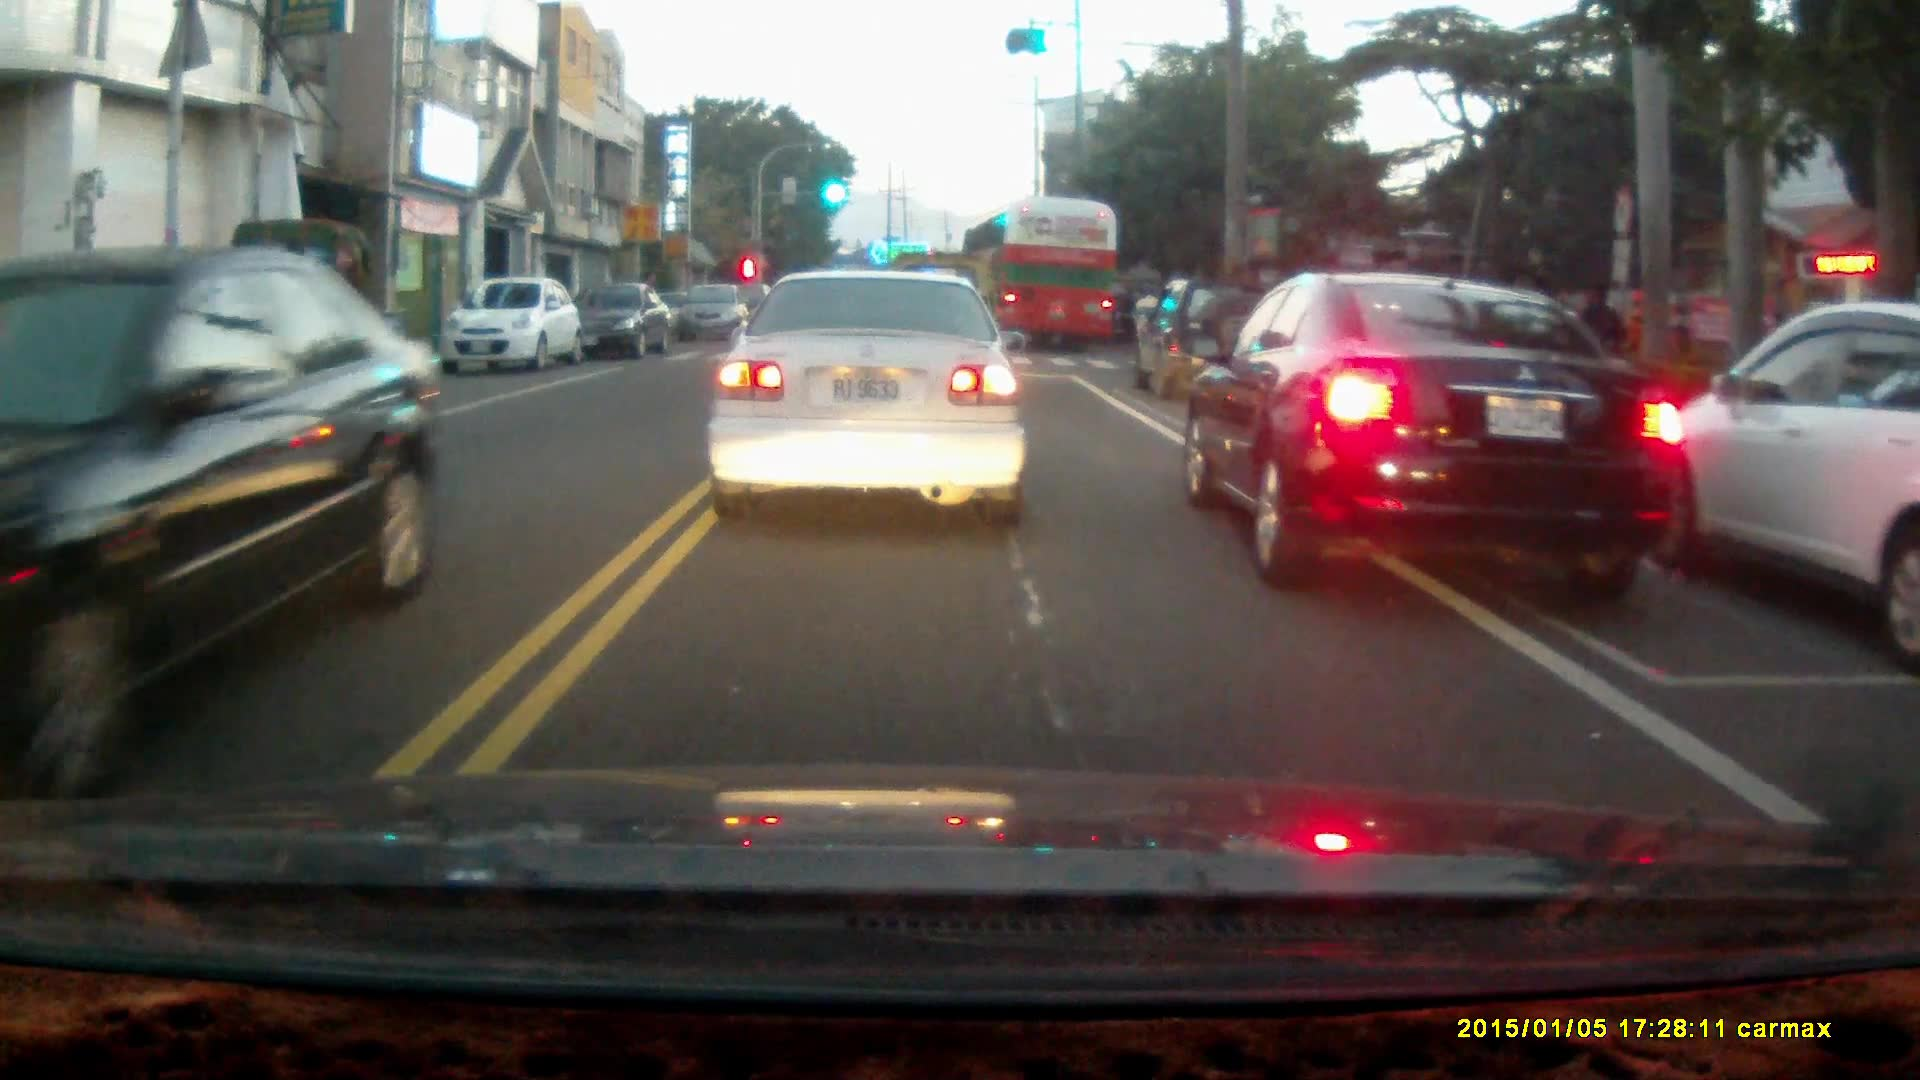pedestrian: (1576, 280, 1624, 403)
vehicle: (1, 249, 439, 766), (1183, 274, 1692, 586), (1625, 298, 1920, 614), (706, 265, 1030, 528), (179, 214, 420, 408), (963, 202, 1118, 357), (1138, 279, 1285, 402), (446, 279, 588, 378), (568, 278, 676, 363), (678, 285, 755, 344)
